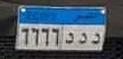6: (30, 26, 40, 47), (50, 27, 60, 47), (20, 27, 30, 47), (41, 27, 49, 47)
daal: (64, 31, 76, 46), (90, 31, 101, 46), (77, 32, 89, 45)
